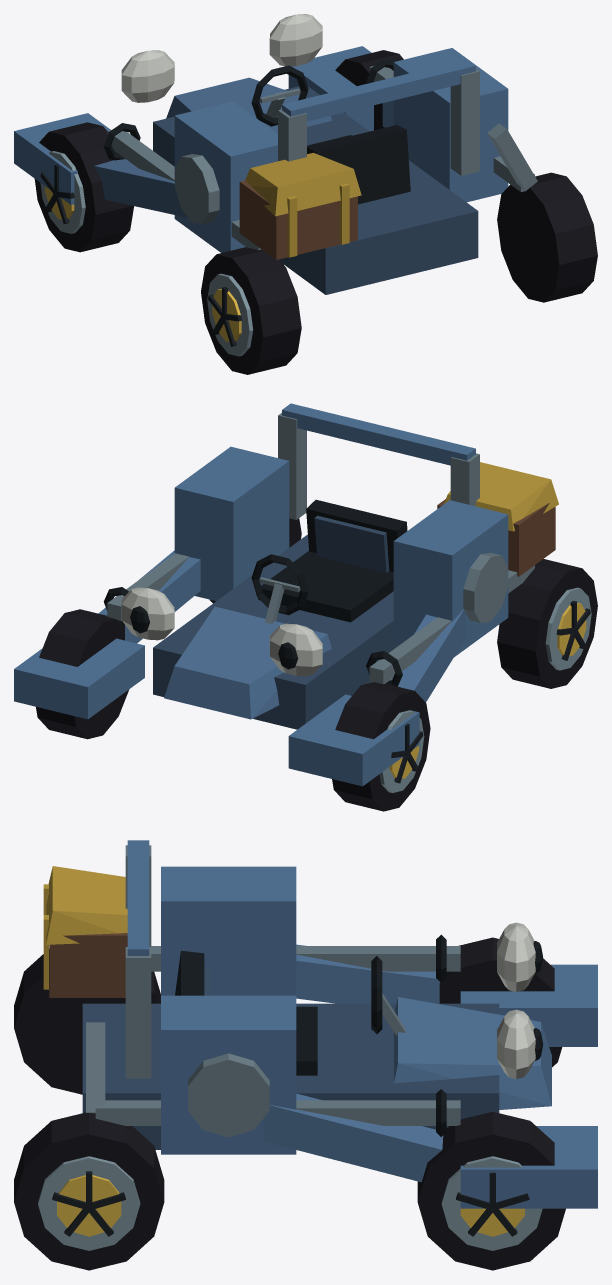
The model's file is kart.glb.
The picture shows the model from 3 angles, top to bottom: view 1: azimuth 30°, elevation 25°; view 2: azimuth 150°, elevation 25°; view 3: azimuth 270°, elevation 25°; orthographic projection. The views are drawn at different scales.
Parts seen in each view (by area): view 1: identity-mech-mech-articulated-limbs-and-open-harness, identity-mech-motif-treasure, wheel-rear-left, wheel-rear-right, wheel-front-left, identity-mech-driver-cockpit, identity-mech-motif-eyes, identity-mech-motif-pipes, wheel-front-right; view 2: identity-mech-mech-articulated-limbs-and-open-harness, identity-mech-driver-cockpit, wheel-rear-left, wheel-front-left, identity-mech-motif-treasure, wheel-front-right, identity-mech-motif-eyes, identity-mech-motif-pipes; view 3: identity-mech-mech-articulated-limbs-and-open-harness, wheel-rear-right, wheel-front-right, identity-mech-motif-pipes, identity-mech-motif-treasure, wheel-rear-left, identity-mech-motif-eyes, identity-mech-driver-cockpit, wheel-front-left.
Part boxes in pixels (x1=…): identity-mech-mech-articulated-limbs-and-open-harness: x1=14, y1=46, x2=508, y2=294; identity-mech-motif-treasure: x1=239, y1=152, x2=361, y2=259; wheel-rear-left: x1=201, y1=247, x2=301, y2=374; wheel-rear-right: x1=497, y1=172, x2=597, y2=302; wheel-front-left: x1=34, y1=122, x2=133, y2=252; identity-mech-driver-cockpit: x1=251, y1=65, x2=410, y2=204; identity-mech-motif-eyes: x1=121, y1=14, x2=322, y2=102; identity-mech-motif-pipes: x1=104, y1=59, x2=537, y2=250; wheel-front-right: x1=335, y1=50, x2=403, y2=130; identity-mech-mech-articulated-limbs-and-open-harness: x1=14, y1=403, x2=508, y2=786; identity-mech-driver-cockpit: x1=251, y1=499, x2=407, y2=623; wheel-rear-left: x1=497, y1=559, x2=597, y2=688; wheel-front-left: x1=332, y1=682, x2=430, y2=811; identity-mech-motif-treasure: x1=437, y1=462, x2=558, y2=576; wheel-front-right: x1=36, y1=609, x2=129, y2=739; identity-mech-motif-eyes: x1=121, y1=587, x2=322, y2=676; identity-mech-motif-pipes: x1=103, y1=553, x2=534, y2=686; identity-mech-mech-articulated-limbs-and-open-harness: x1=82, y1=840, x2=597, y2=1208; wheel-rear-right: x1=14, y1=1112, x2=164, y2=1270; wheel-front-right: x1=417, y1=1111, x2=565, y2=1270; identity-mech-motif-pipes: x1=86, y1=934, x2=460, y2=1136; identity-mech-motif-treasure: x1=43, y1=866, x2=127, y2=997; wheel-rear-left: x1=14, y1=949, x2=160, y2=1094; identity-mech-motif-eyes: x1=497, y1=922, x2=543, y2=1079; identity-mech-driver-cockpit: x1=175, y1=950, x2=405, y2=1075; wheel-front-left: x1=439, y1=937, x2=562, y2=1067.
Bounding box in the file's own units: 2.29 × 1.42 × 2.72.
